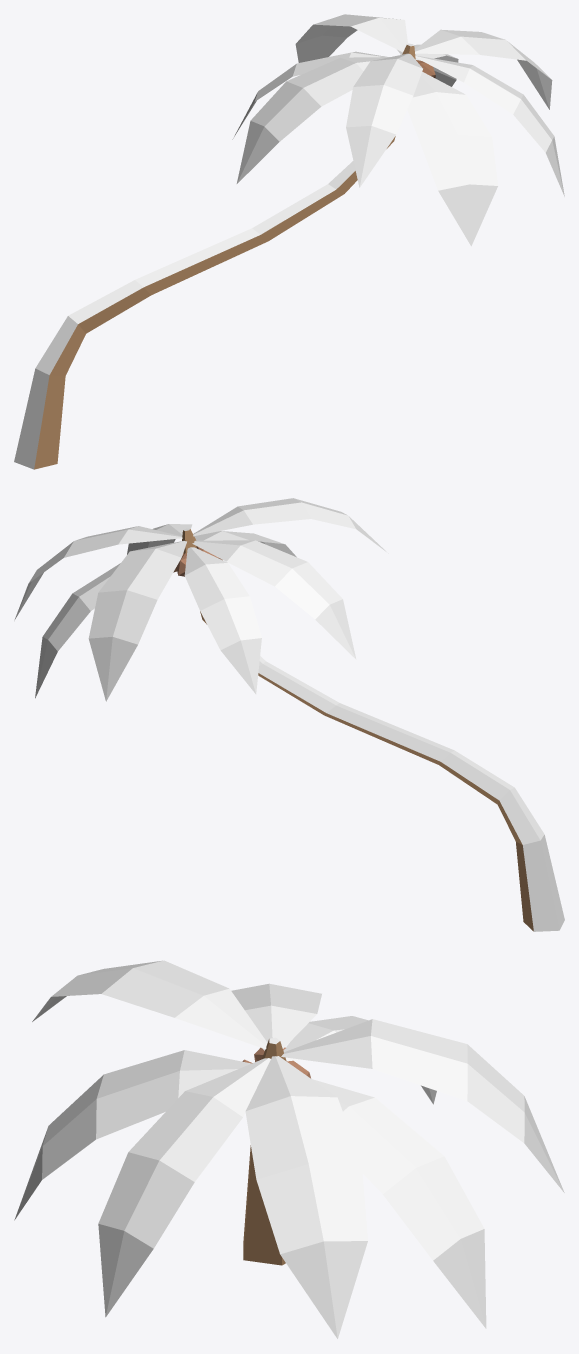
File: Palm_Tree_Coconut_OneSided_m_Snow_05_LOD.fbx
3 views of the same model, one above another, from view 1: azimuth 30°, elevation 25°; view 2: azimuth 150°, elevation 25°; view 3: azimuth 270°, elevation 25° (orthographic). The views are drawn at different scales.
Visible parts, largest first — view 1: Palm_Tree_Coconut_OneSided_m_Snow_05_LOD0; view 2: Palm_Tree_Coconut_OneSided_m_Snow_05_LOD0; view 3: Palm_Tree_Coconut_OneSided_m_Snow_05_LOD0.
Boxes of the visible parts, x1=… form: Palm_Tree_Coconut_OneSided_m_Snow_05_LOD0: x1=14, y1=14, x2=564, y2=469; Palm_Tree_Coconut_OneSided_m_Snow_05_LOD0: x1=14, y1=498, x2=564, y2=931; Palm_Tree_Coconut_OneSided_m_Snow_05_LOD0: x1=14, y1=960, x2=564, y2=1338.
Size of what is drawn, in the model's own units: 581 by 336 by 332.
